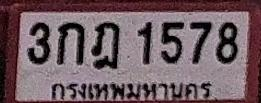1: (137, 21, 152, 64)
3: (27, 22, 50, 63)
5: (161, 21, 184, 63)
7: (190, 20, 212, 63)
8: (216, 21, 238, 63)
A01: (56, 22, 84, 64)
A14: (91, 21, 120, 68)
BKK: (48, 80, 217, 102)
